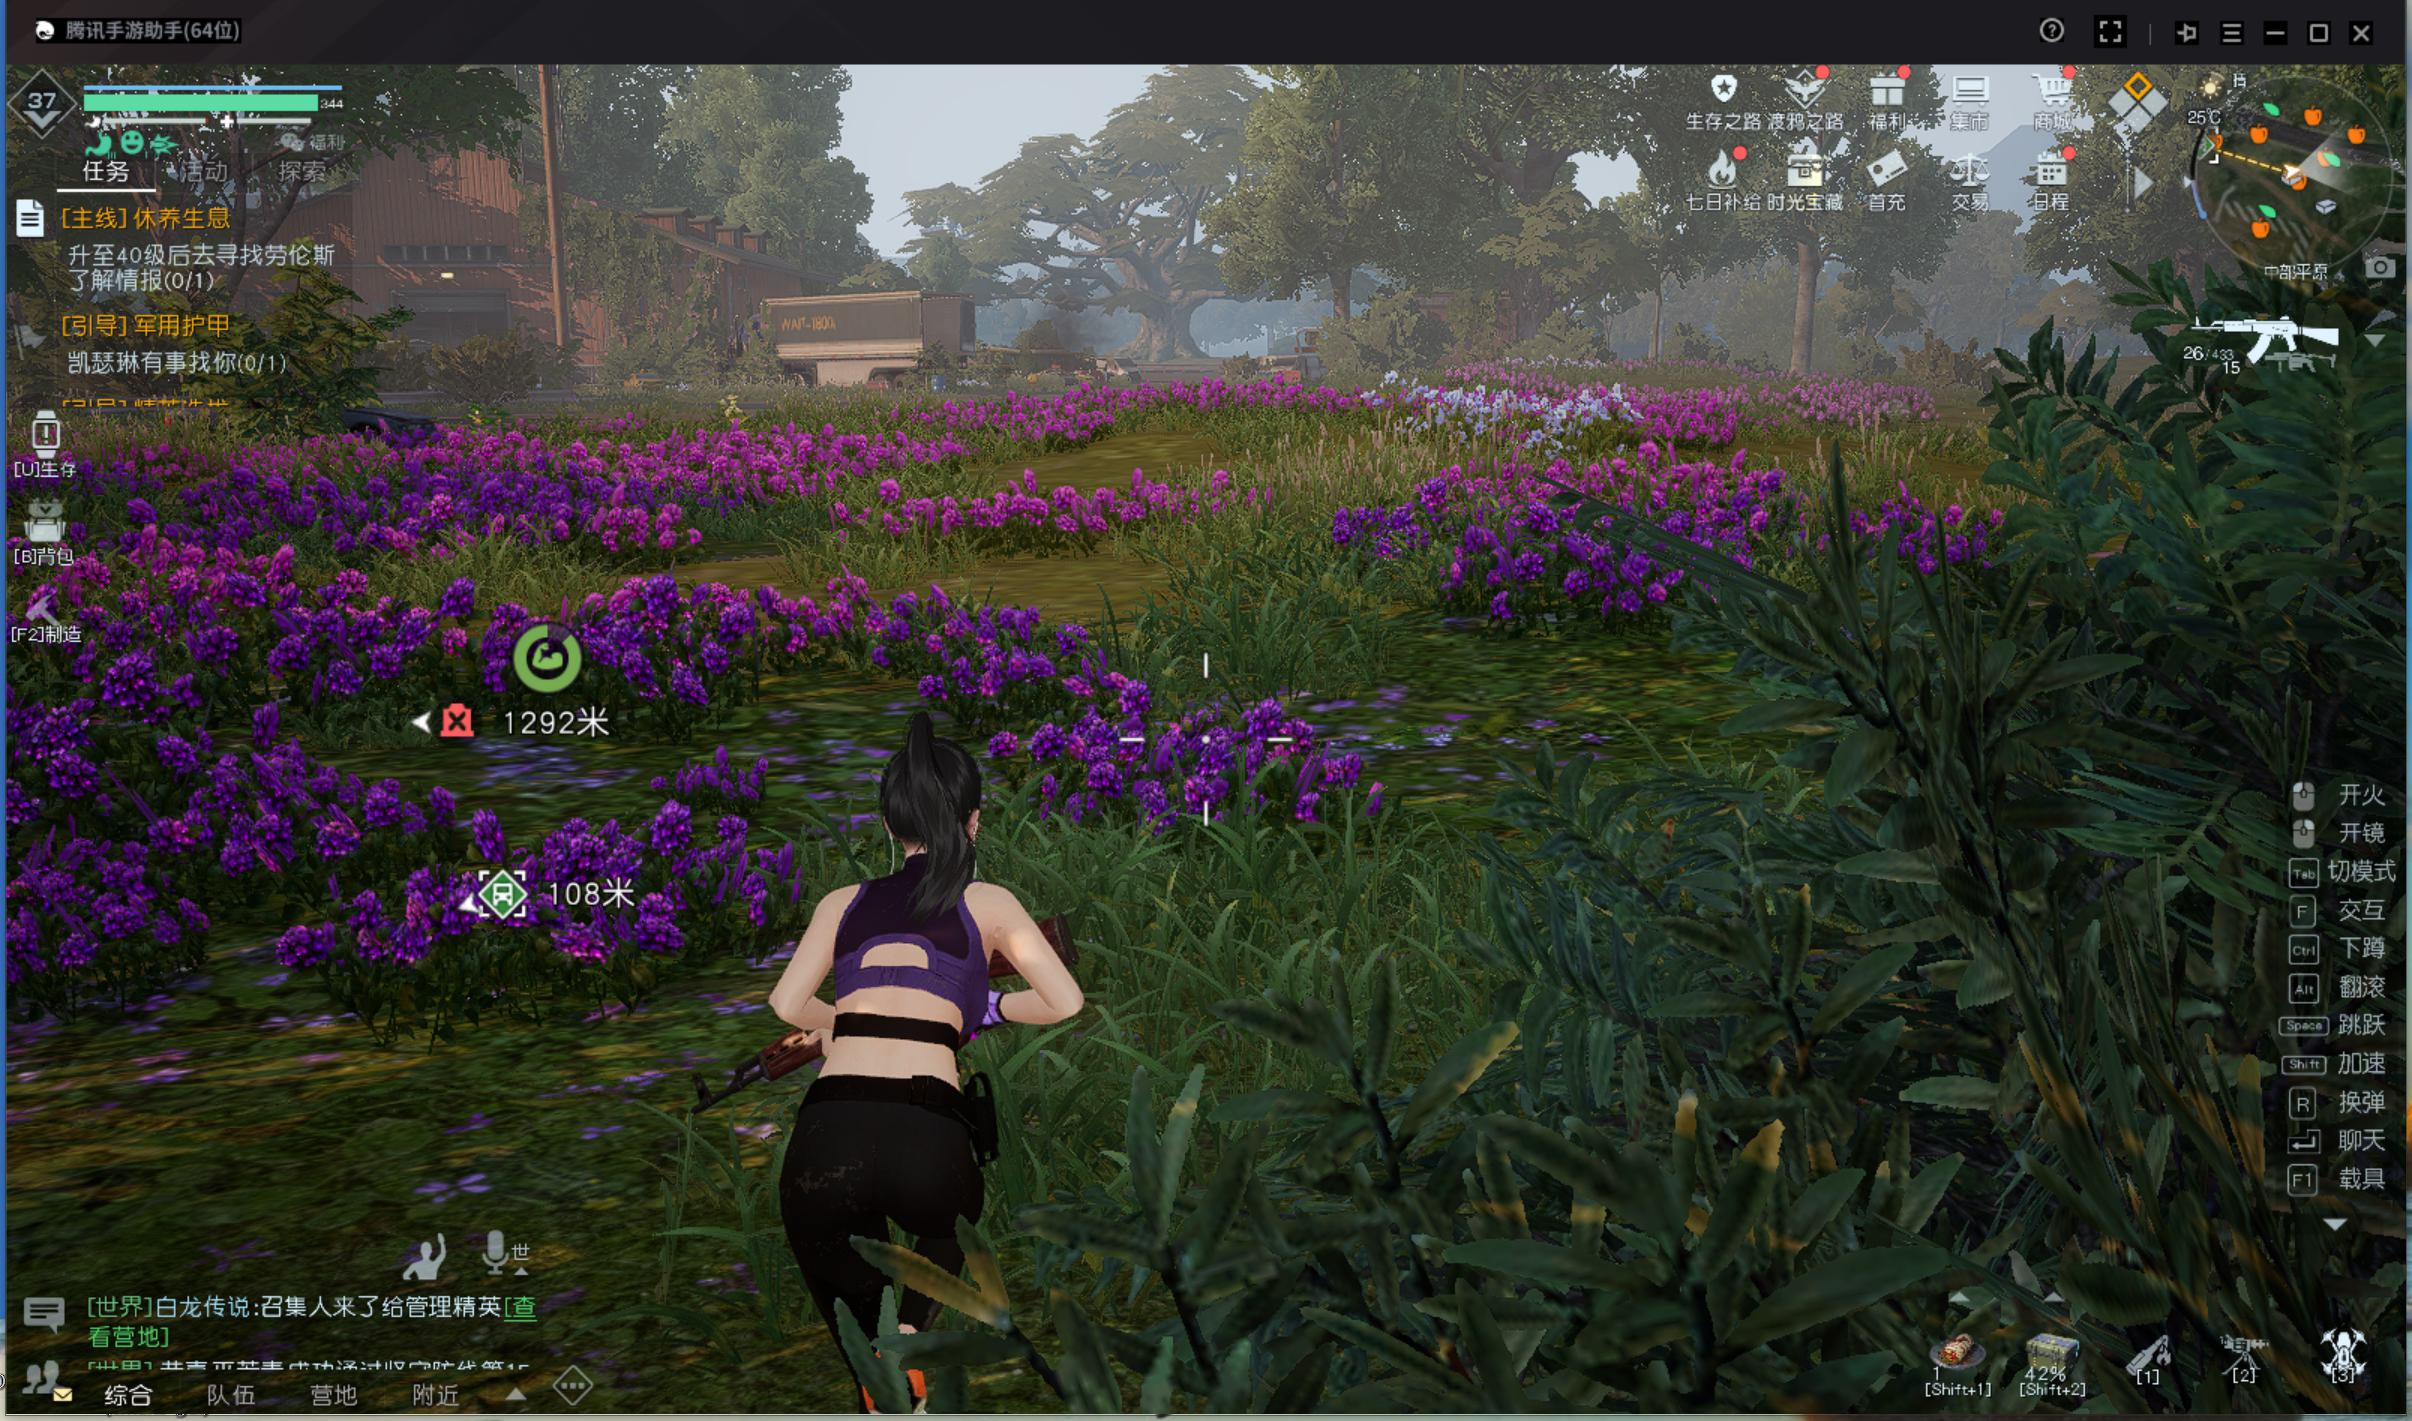tree: (1774, 255, 1828, 394)
